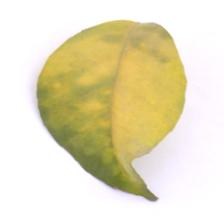greening: (52, 21, 186, 136)
